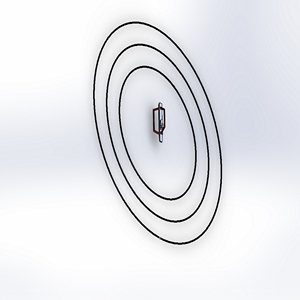circle: (80, 16, 227, 250)
submarine: (139, 99, 175, 147)
